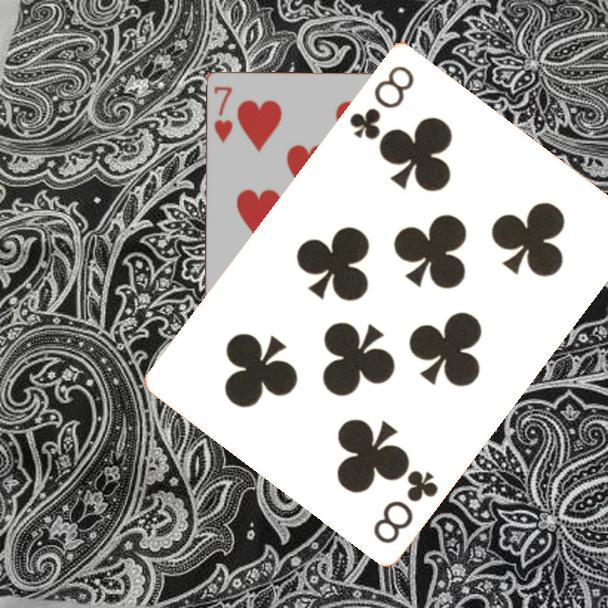c08: (369, 465, 441, 547), (345, 61, 417, 142)
h07: (210, 83, 235, 146)
